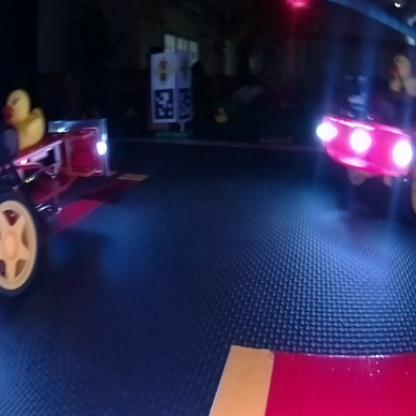duckie: (0, 80, 48, 147), (382, 43, 415, 99)
duckiebot: (0, 120, 112, 305), (310, 87, 415, 225)
